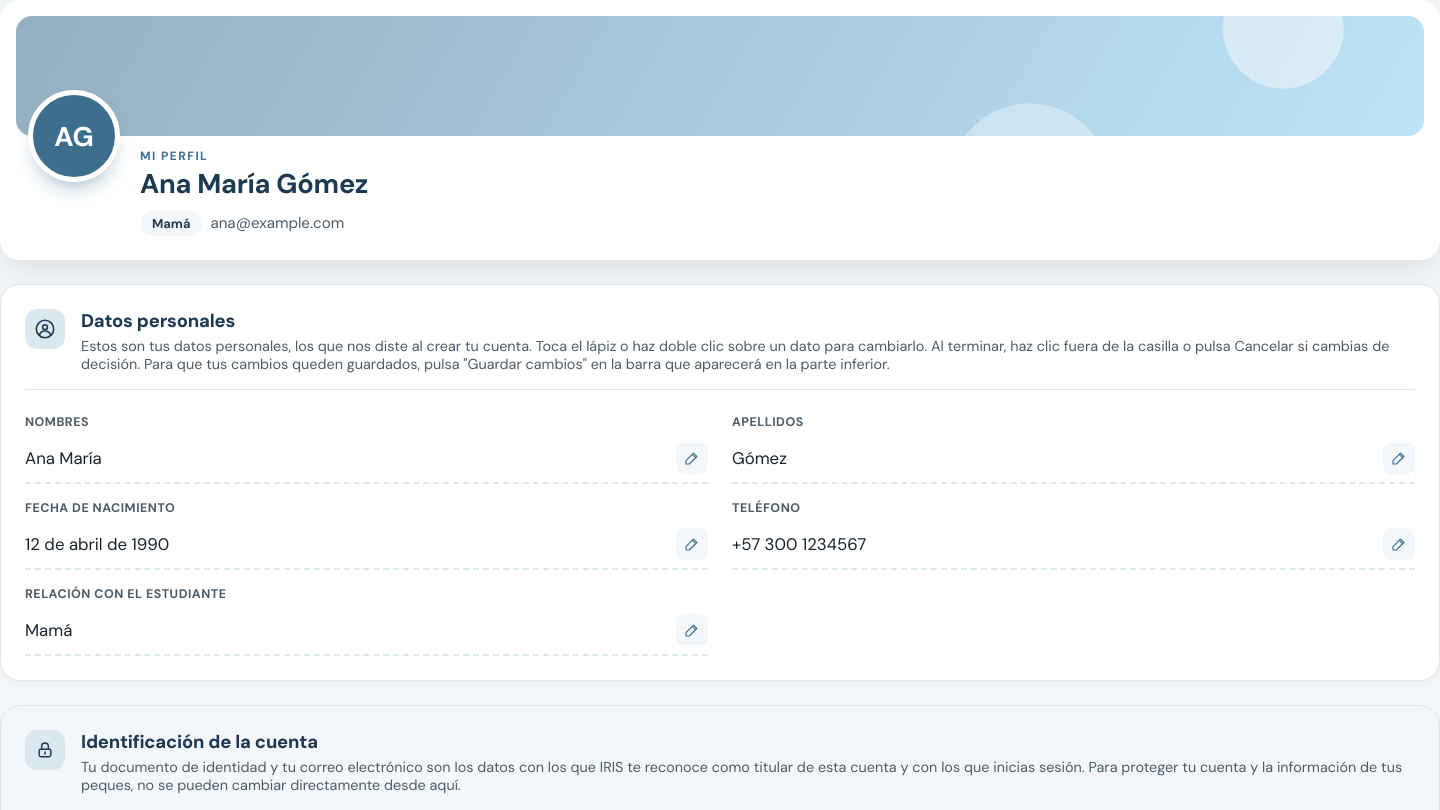
Test case: MiPerfilSection › one press on Descartar is enough with a field open, where the browser animates the fields
Step 1. Click the button named "Editar nombres" → point(692, 458), box [676,442,708,474]
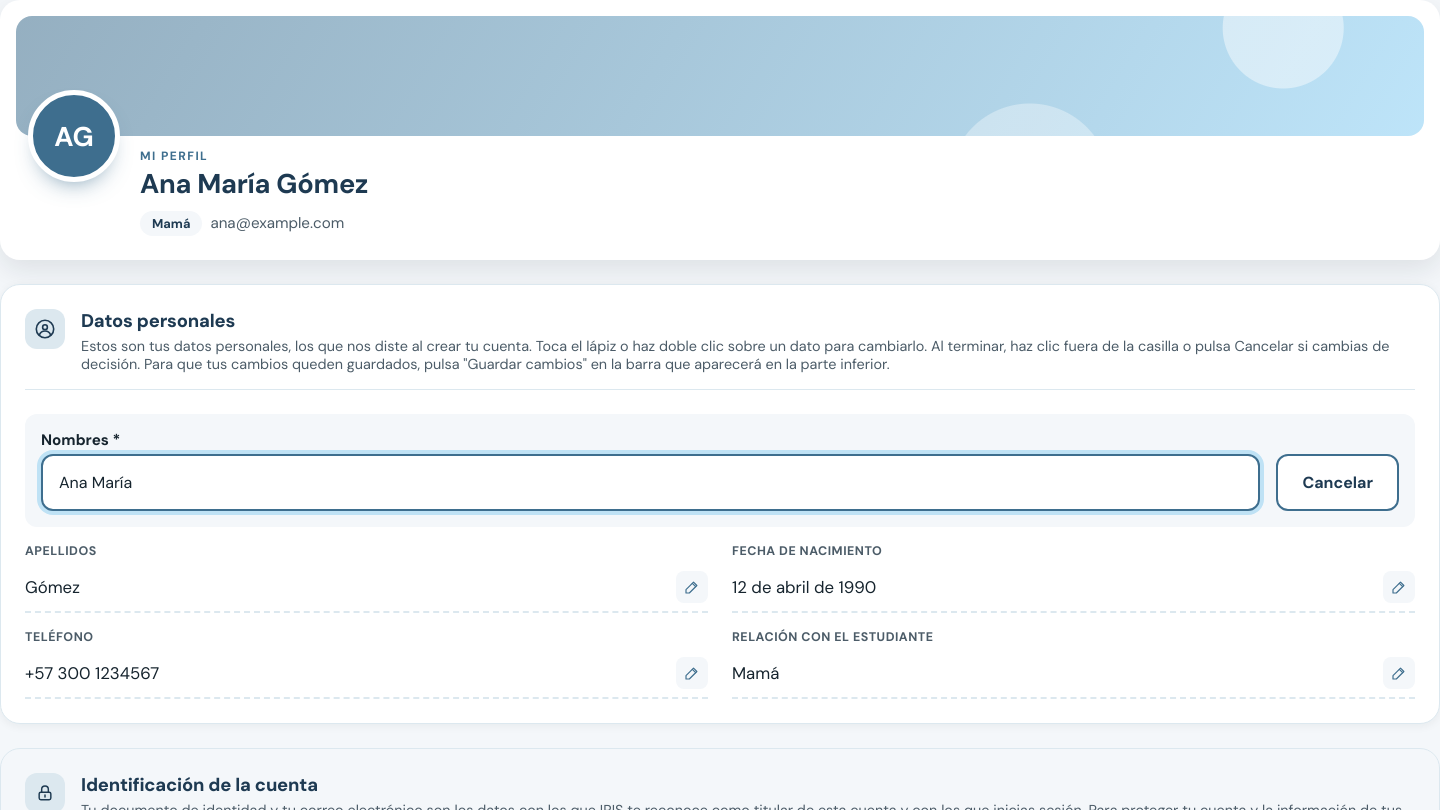
Step 2. Replace the text in the field labelled "Nombres *" with "Lucía" → point(651, 482), box [41,454,1260,511]
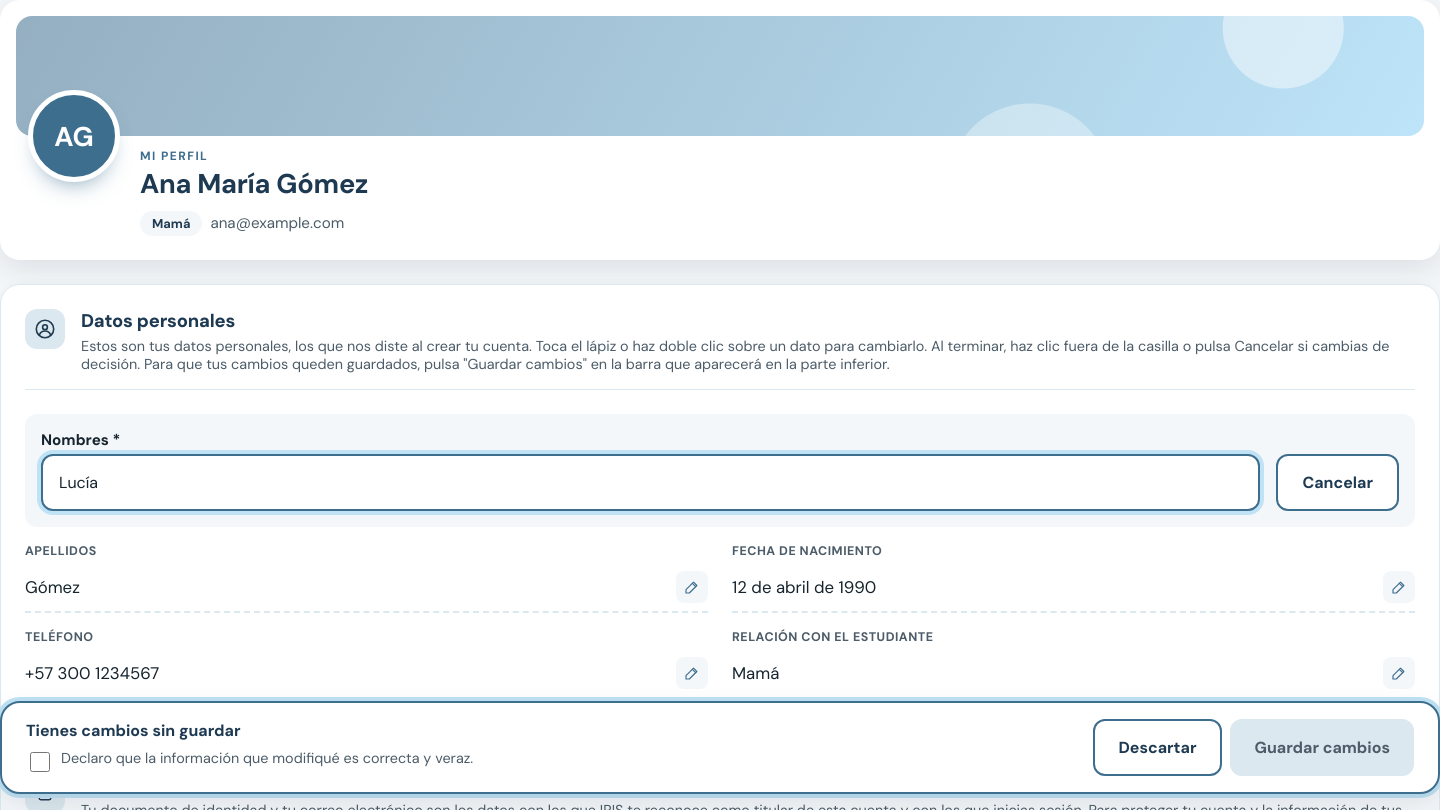
Step 3. Click the button "Descartar" → point(1157, 748), box [1092,719,1222,776]
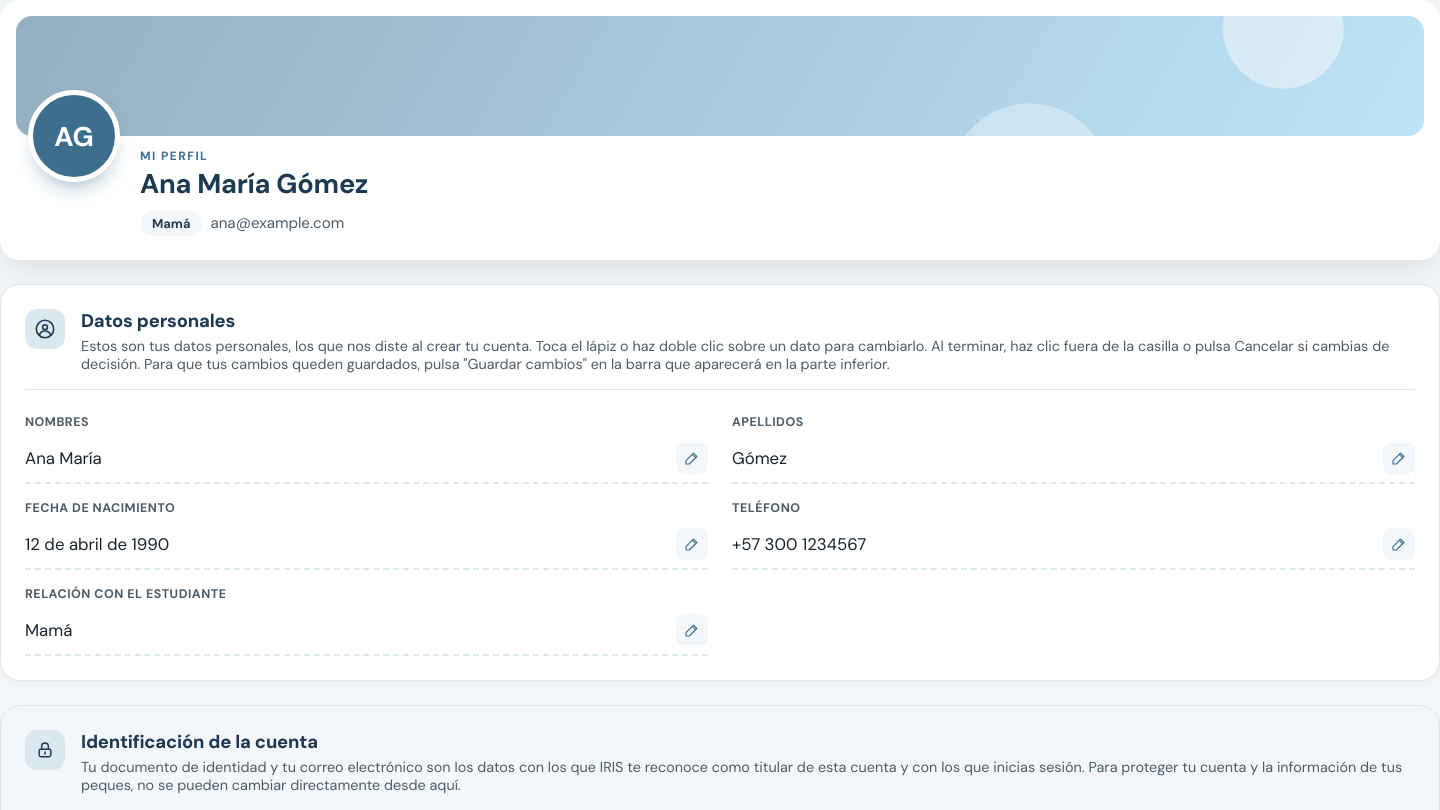
Expected: the text "Ana María" is shown, [25,447,102,469]
Expected: the text "cambios sin guardar" is gone
